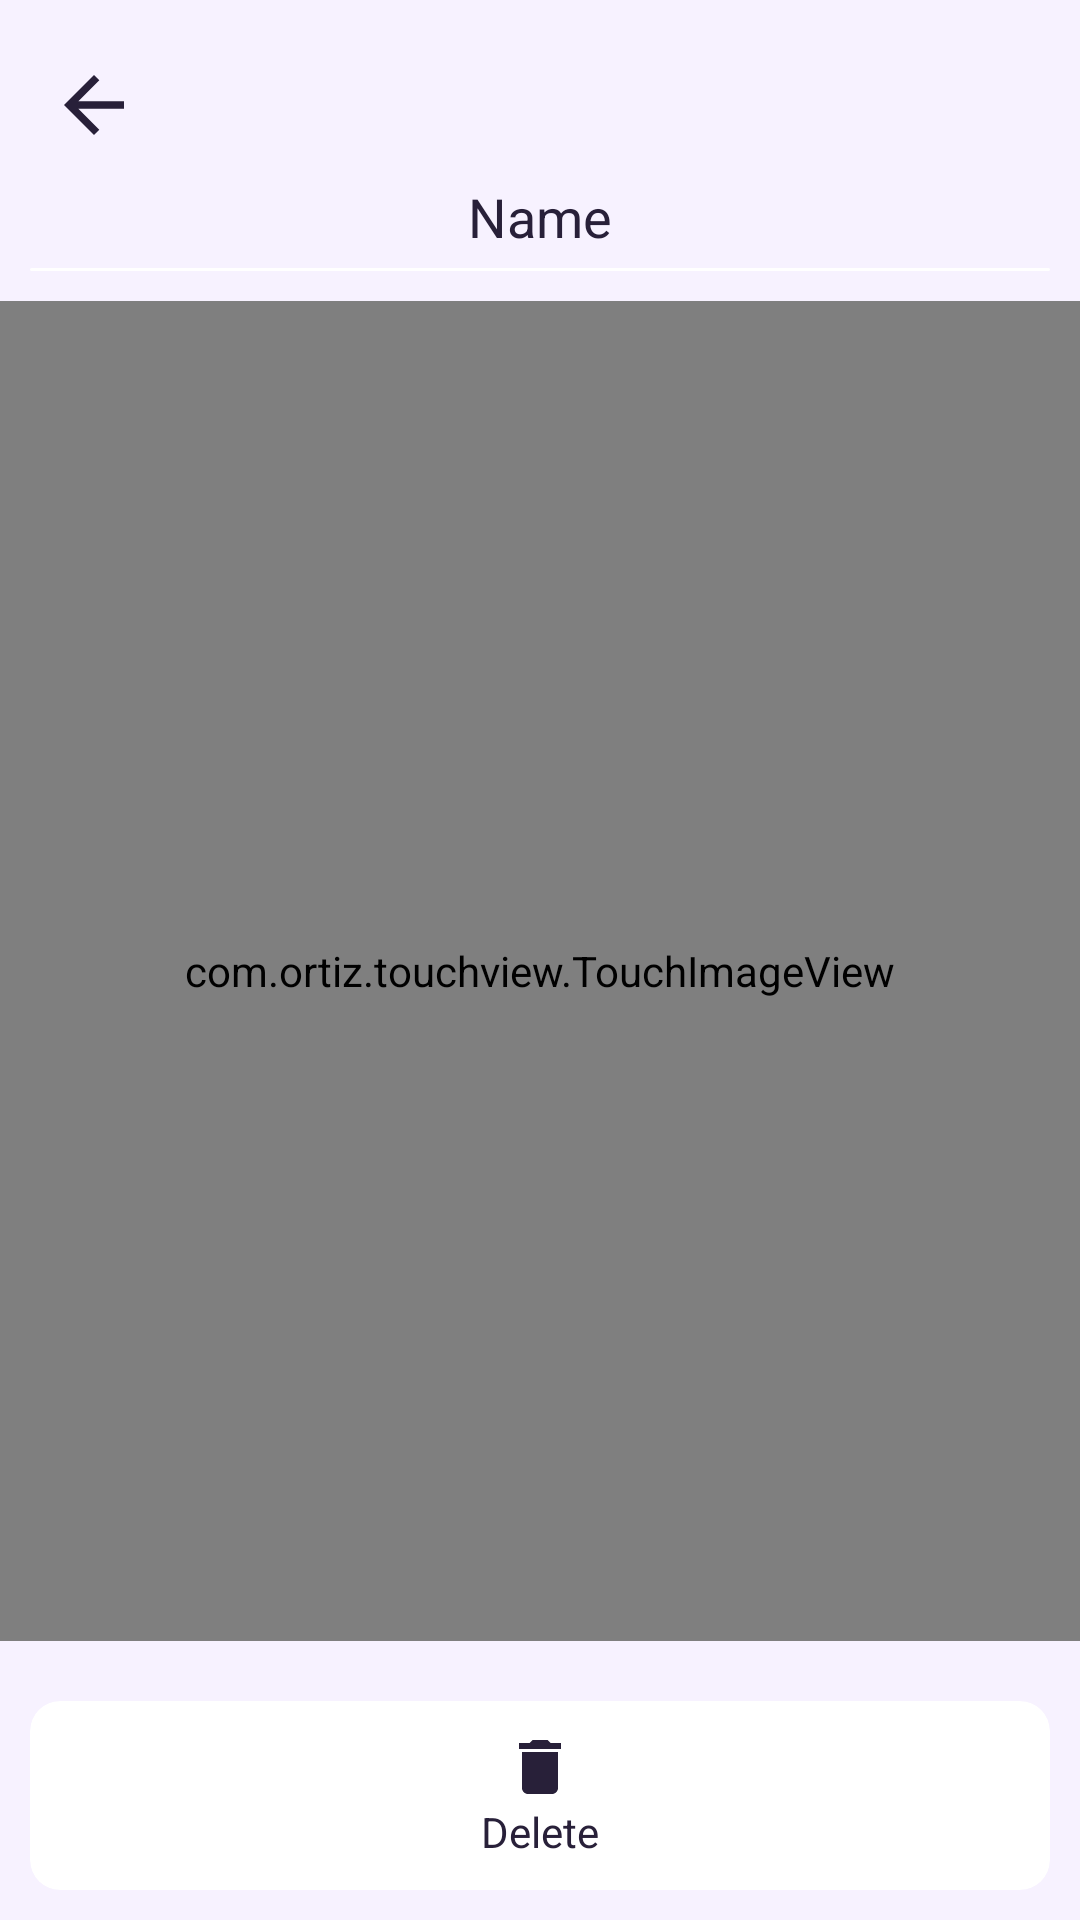

Locate icon controls on the screen. Image size 1080px x 1920px, boxes as detection(x1, y1, x2, y2).
back: detection(64, 75, 124, 135)
